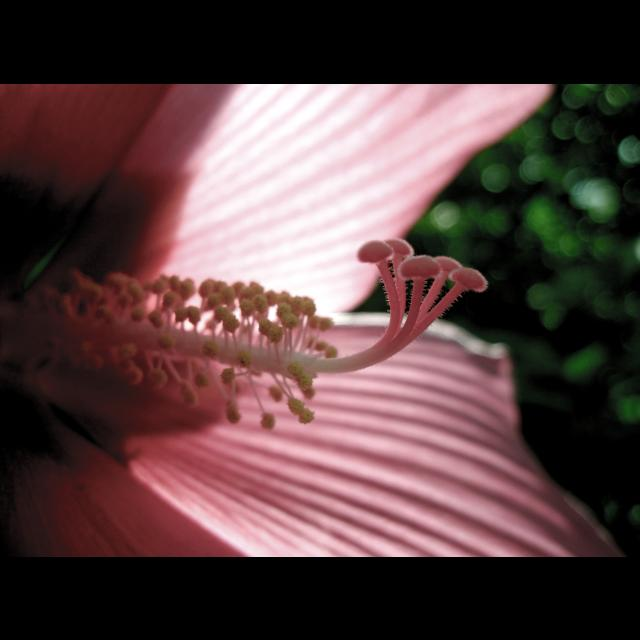Flower: (1, 83, 624, 555)
